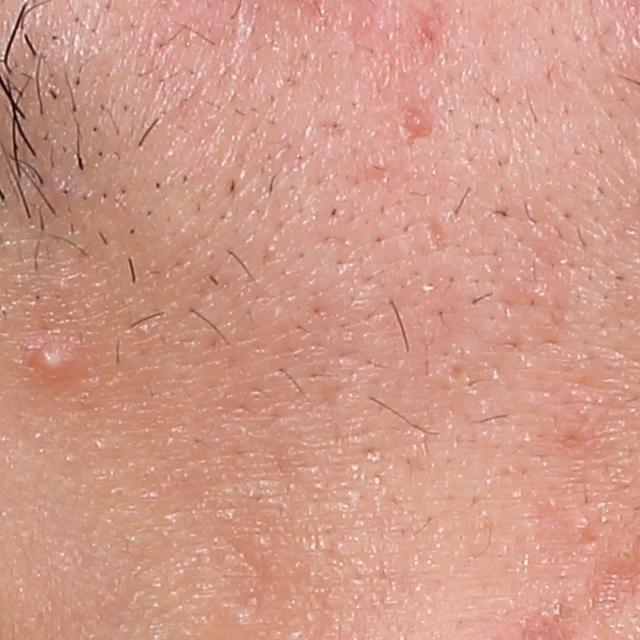atrophic_scar: (424, 211, 450, 256)
pustule: (27, 327, 90, 392)
